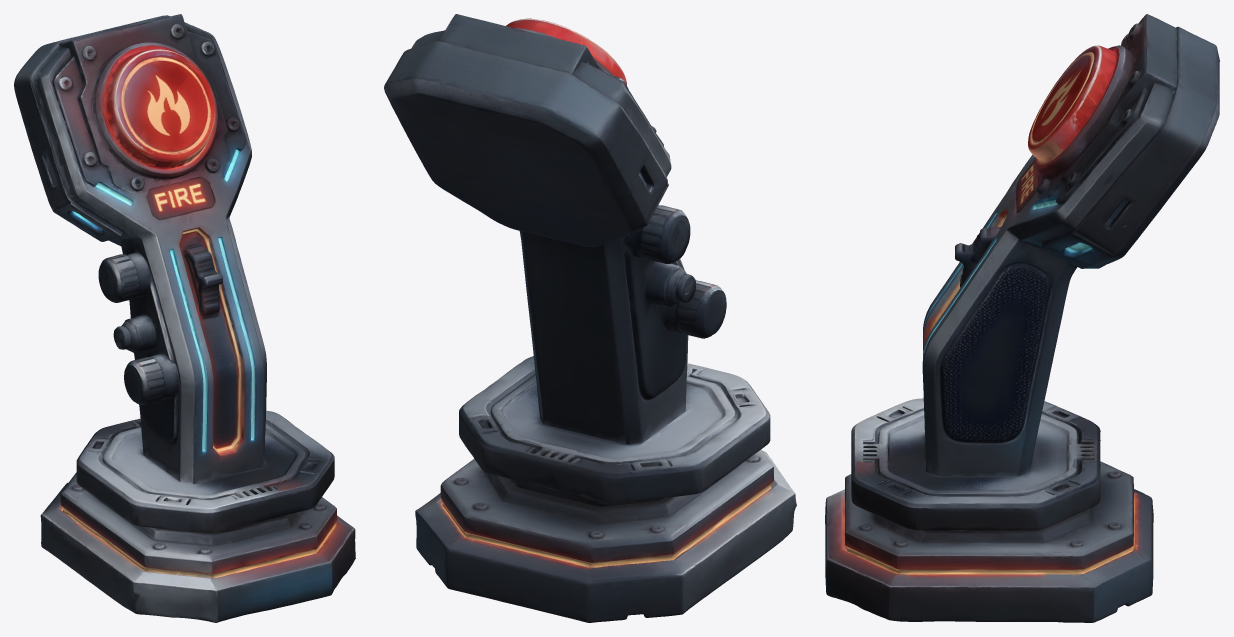
File: missile_lever.glb
3 renders of one model, left to right at view 1: azimuth 30°, elevation 25°; view 2: azimuth 150°, elevation 25°; view 3: azimuth 270°, elevation 25°, orthographic. The views are drawn at different scales.
Visible parts, largest first — view 1: tripo_part_0, tripo_part_1, tripo_part_2; view 2: tripo_part_0, tripo_part_1, tripo_part_2; view 3: tripo_part_0, tripo_part_1, tripo_part_2.
Boxes of the visible parts, x1=… form: tripo_part_0: x1=14, y1=15, x2=334, y2=532; tripo_part_1: x1=40, y1=472, x2=355, y2=622; tripo_part_2: x1=52, y1=14, x2=246, y2=194; tripo_part_0: x1=384, y1=30, x2=770, y2=506; tripo_part_1: x1=415, y1=449, x2=796, y2=622; tripo_part_2: x1=439, y1=14, x2=663, y2=146; tripo_part_0: x1=851, y1=26, x2=1219, y2=530; tripo_part_1: x1=825, y1=461, x2=1153, y2=622; tripo_part_2: x1=1028, y1=14, x2=1177, y2=204.
Bounding box in the file's own units: 0.4911 × 1 × 0.6846.
Materials: 3 (3 with a texture image).
